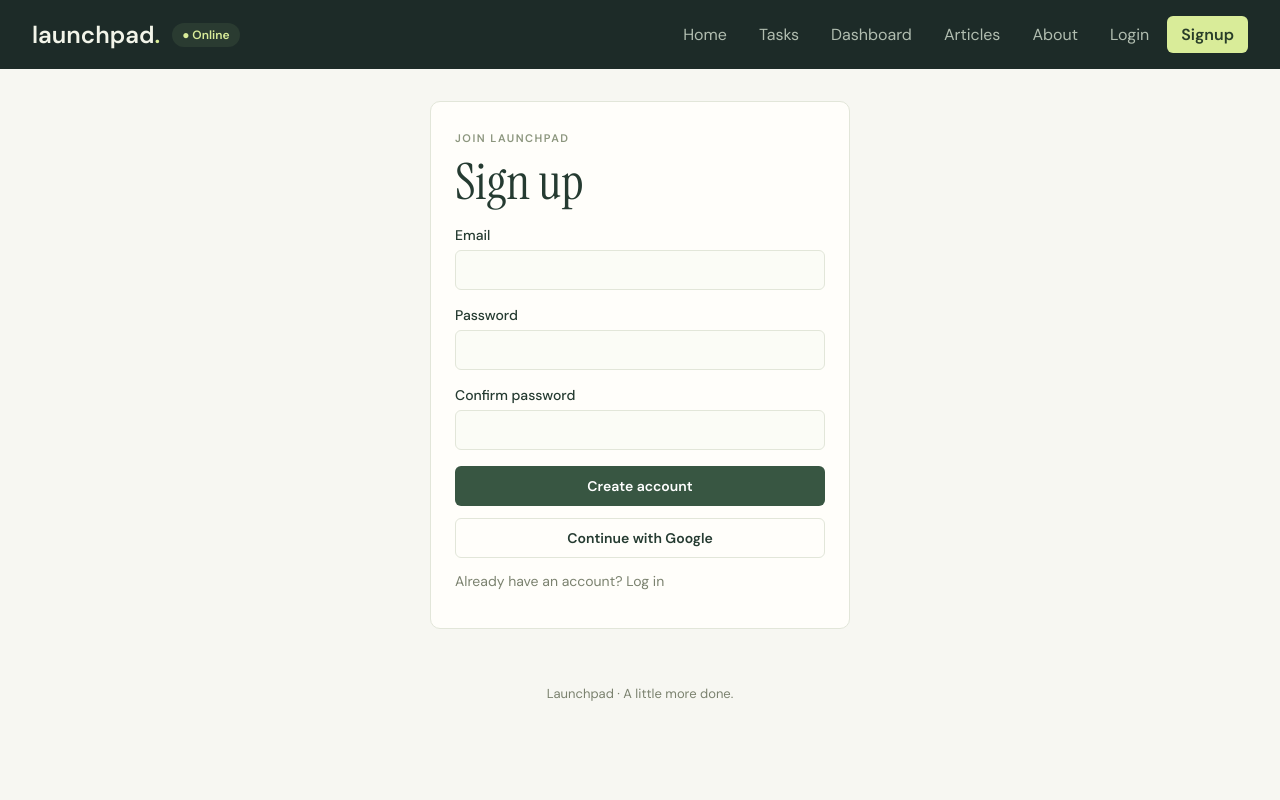
Test case: validates the signup form
Type "bad" into the field labelled "Email".
click(640, 270); type("bad")  # box [455,250,825,290]
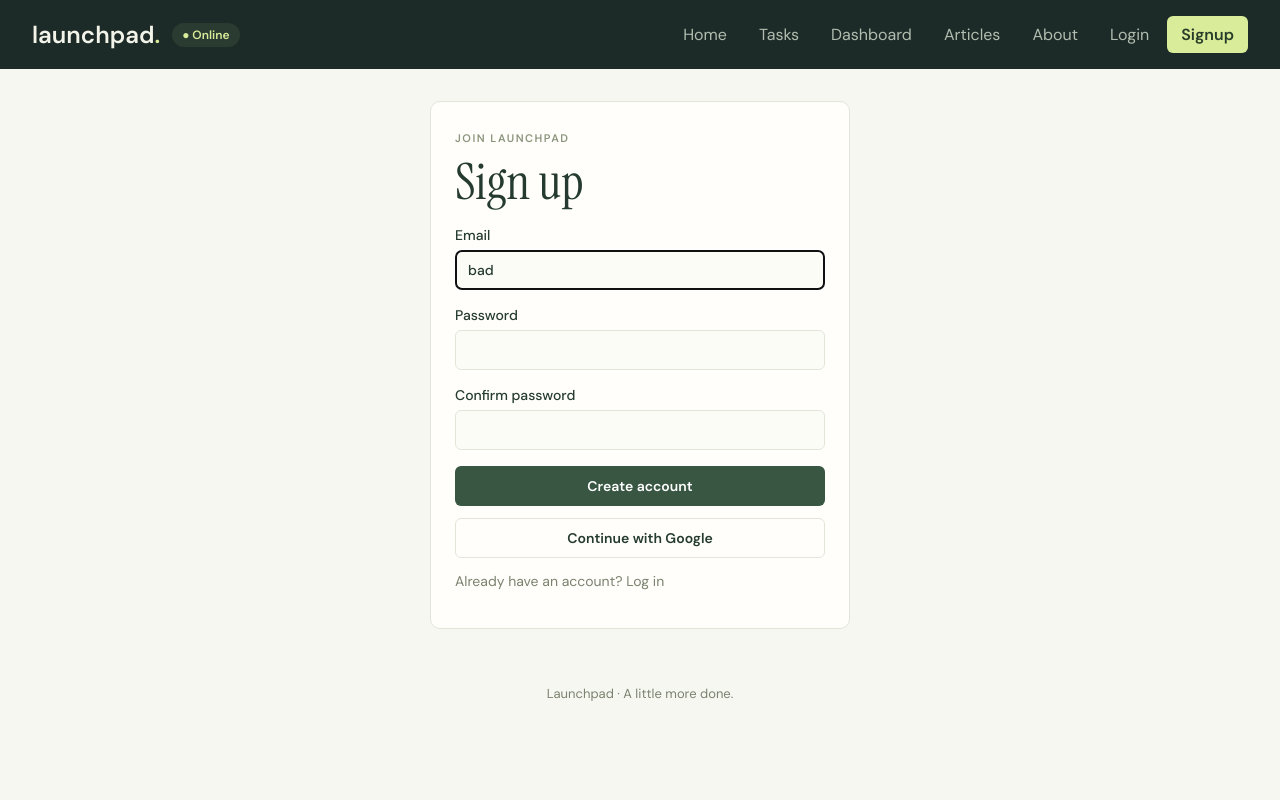
Type "123" into the password field labelled "Password".
click(640, 350); type("123")  # box [455,330,825,370]
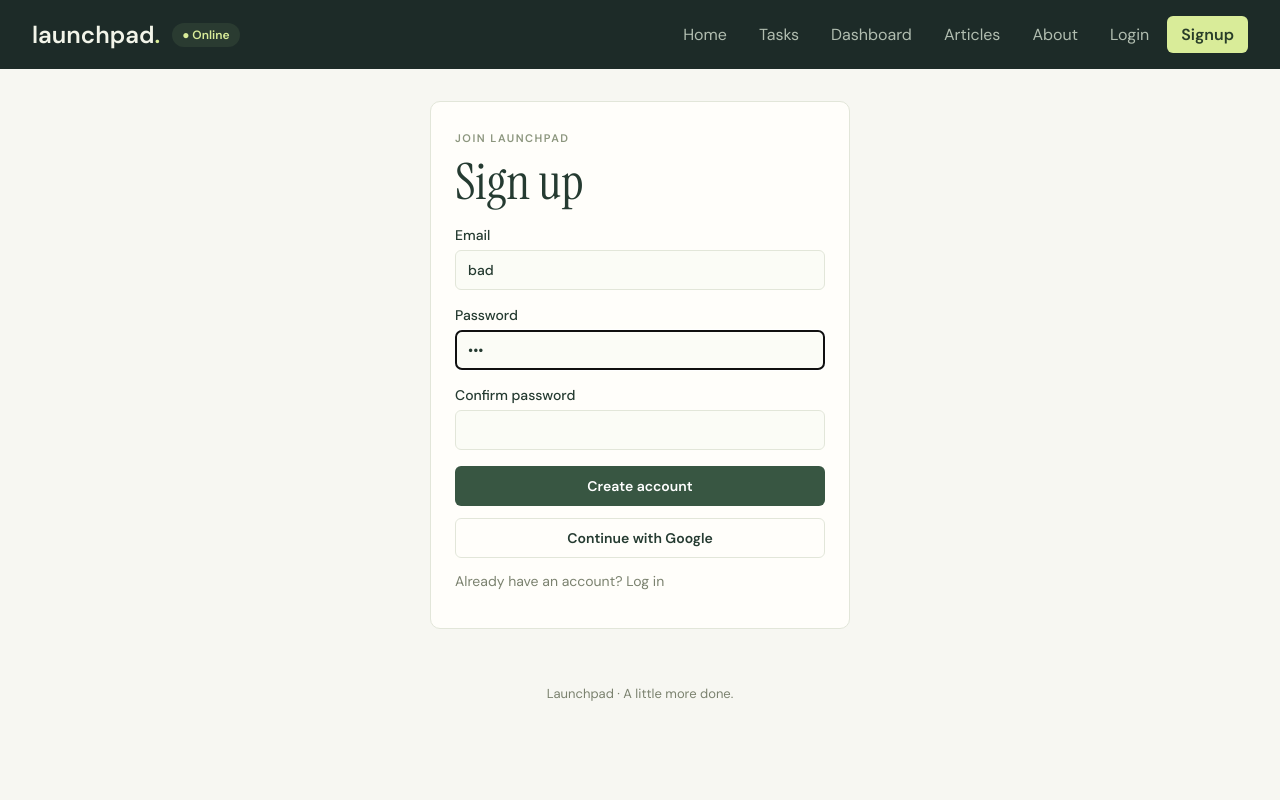
Type "456" into the password field labelled "Confirm password".
click(640, 430); type("456")  # box [455,410,825,450]
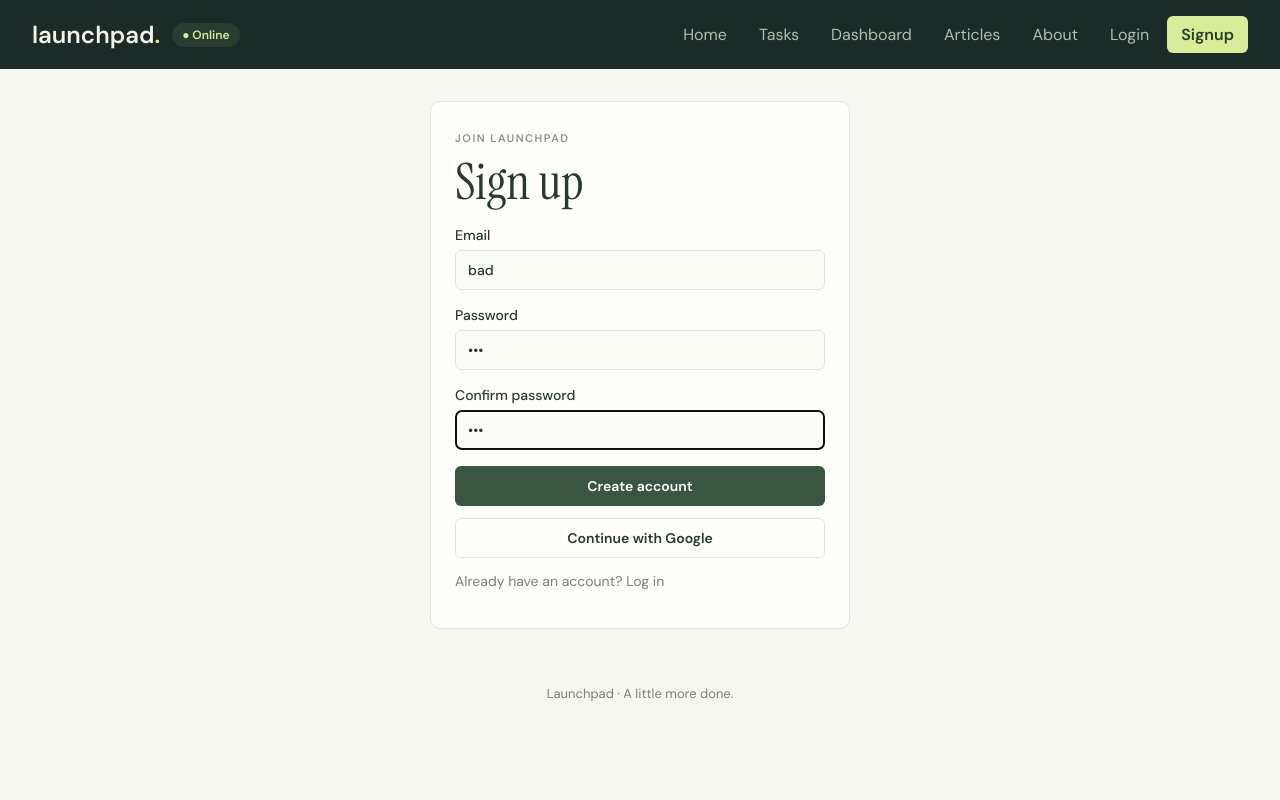
Click the button "Create account".
click(640, 486)  # box [455,466,825,506]
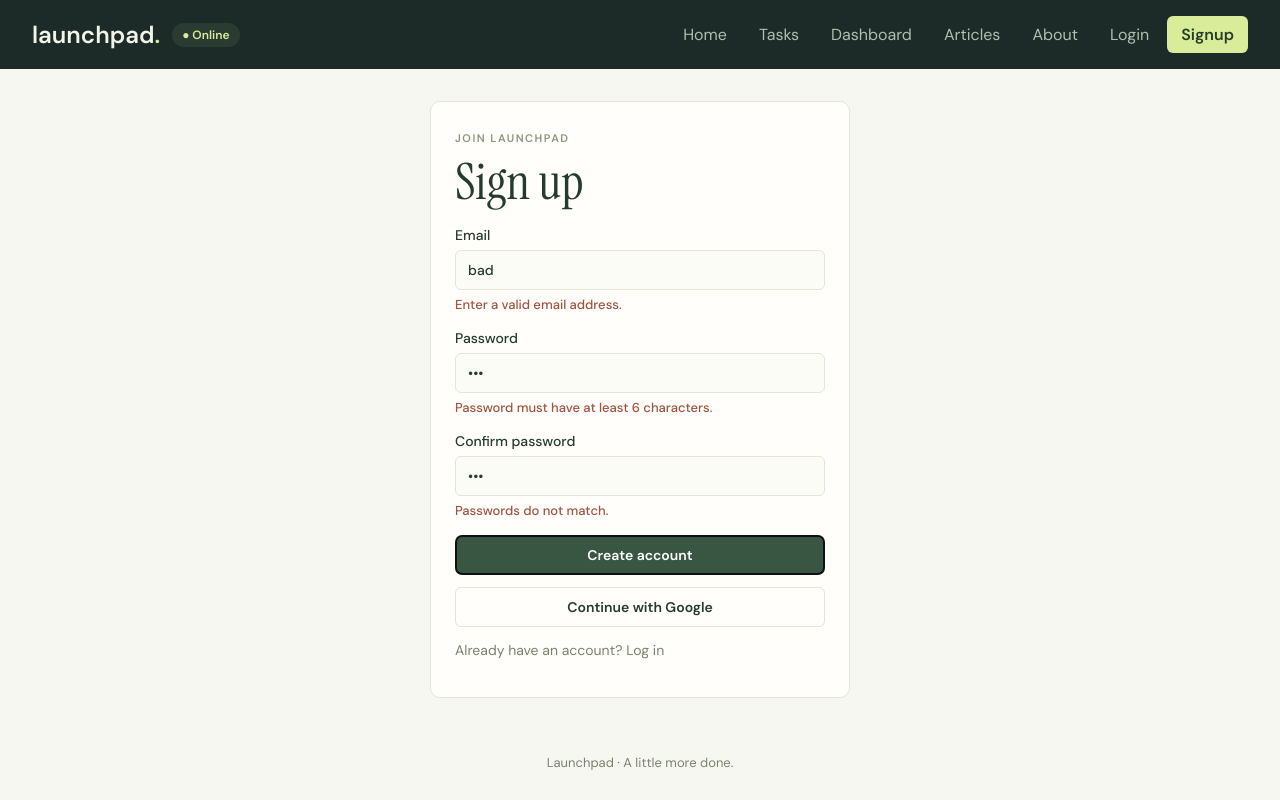
Expected: the text "Enter a valid email address." is shown, [455,296,622,313]
Expected: the text "Password must have at least 6 characters." is shown, [455,399,712,416]
Expected: the text "Passwords do not match." is shown, [455,502,608,519]
